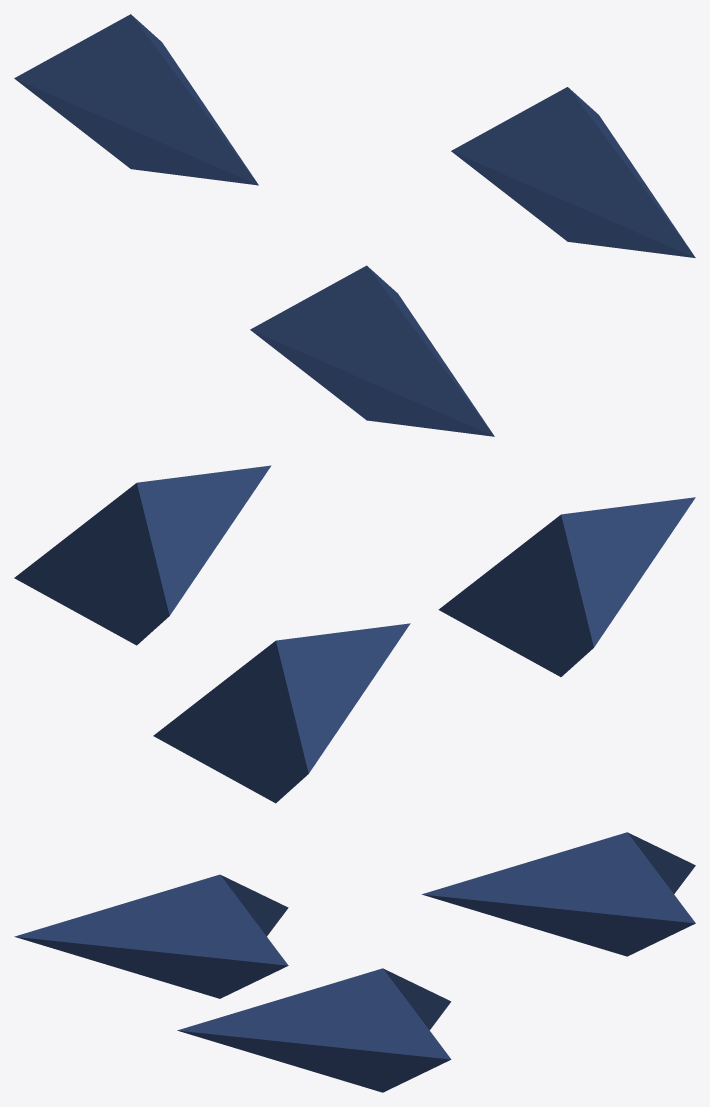
File: MithrilArrowheadStack3.glb
3 views of the same model, one above another, from view 1: azimuth 30°, elevation 25°; view 2: azimuth 150°, elevation 25°; view 3: azimuth 270°, elevation 25° (orthographic). The views are drawn at different scales.
Visible parts, largest first — view 1: MithrilArrowheadStack3; view 2: MithrilArrowheadStack3; view 3: MithrilArrowheadStack3.
Part boxes in pixels (left/top/right/bottom): MithrilArrowheadStack3: left=14, top=14, right=695, bottom=436; MithrilArrowheadStack3: left=14, top=465, right=695, bottom=803; MithrilArrowheadStack3: left=14, top=832, right=695, bottom=1092.
Bounding box in the file's own units: 0.1538 × 0.0706 × 0.2511.
